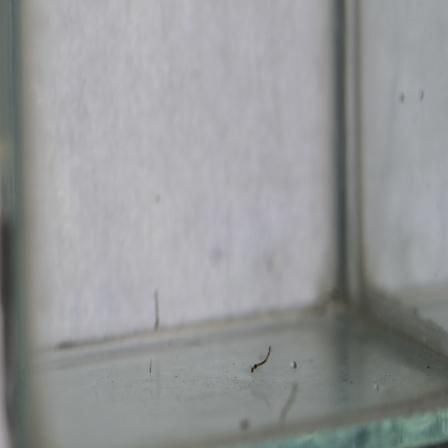Jentik-Nyamuk: (244, 341, 276, 376)
